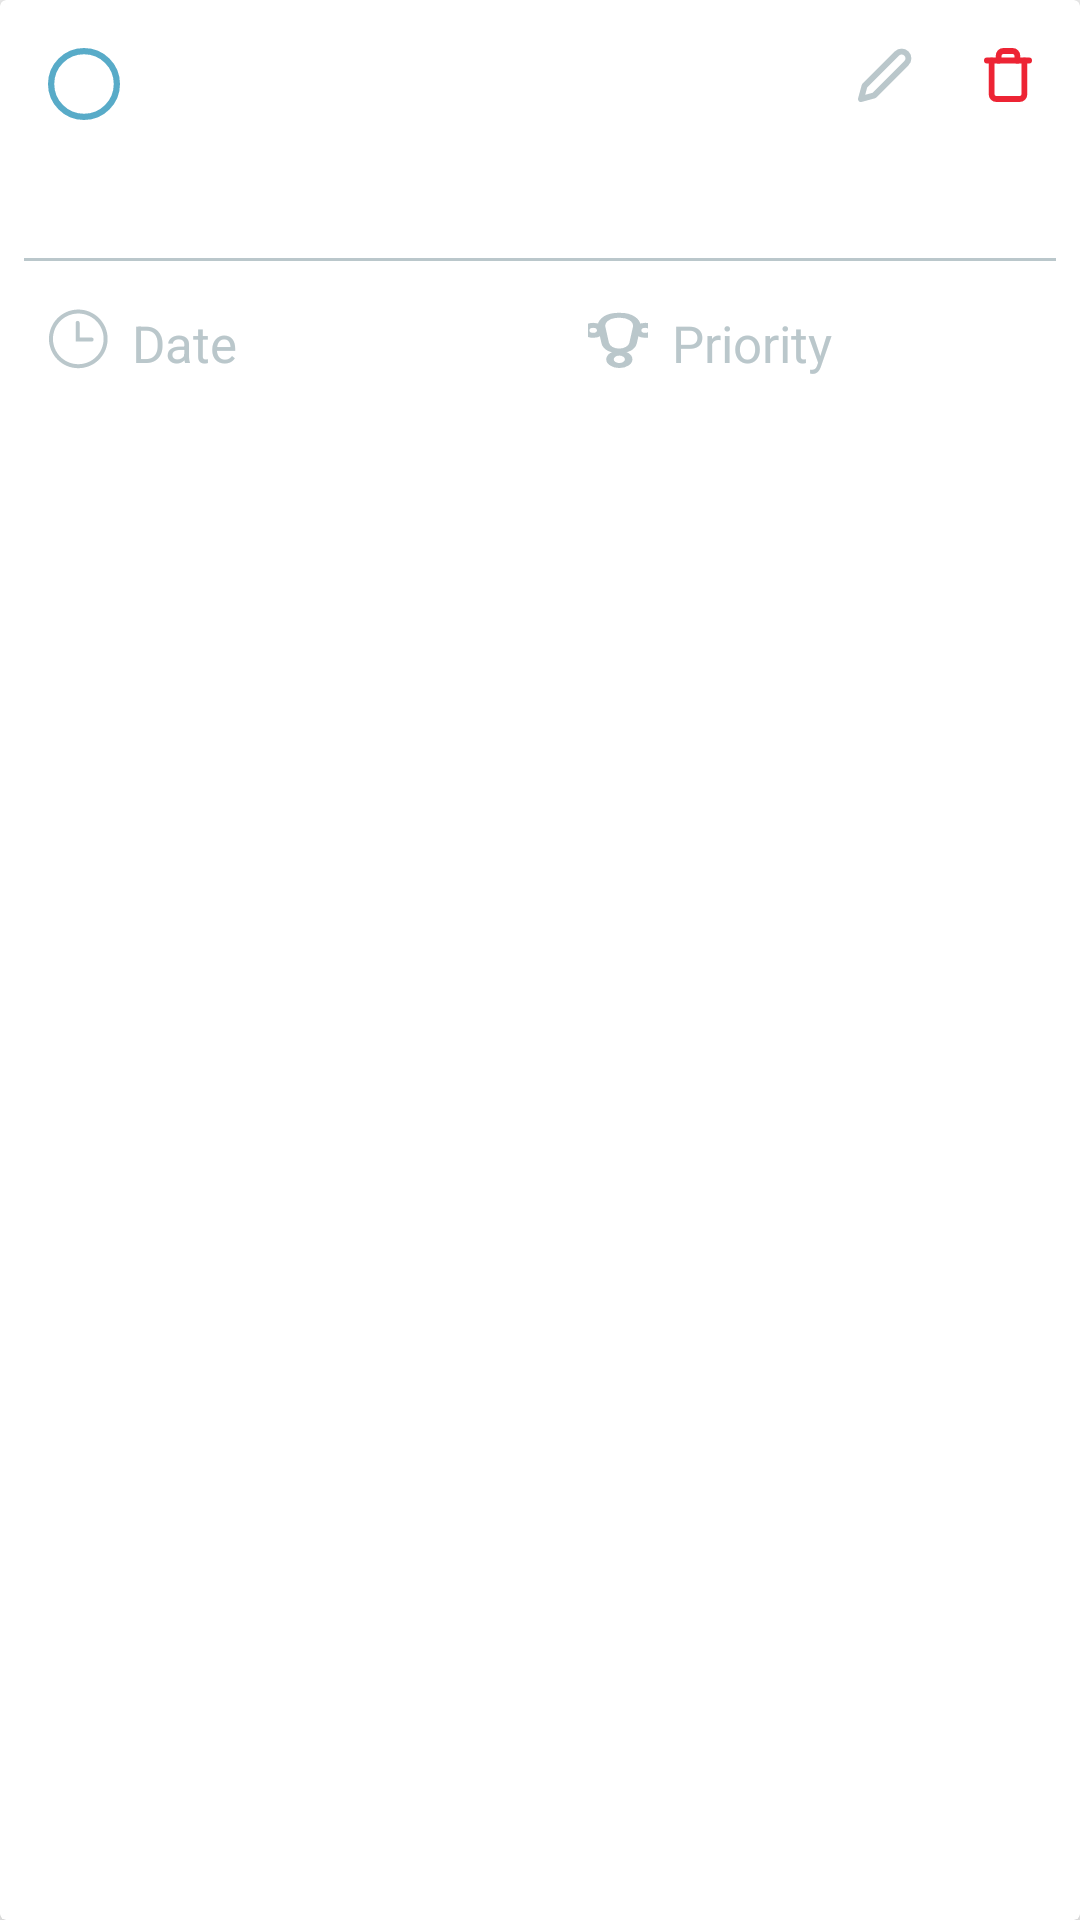

Screen size 1080px×1920px. Icon name, then its box in pixels as box(x1, y1, x2, y2):
delete: box(984, 48, 1032, 102)
edit: box(858, 49, 911, 102)
uncheck: box(48, 48, 120, 120)
